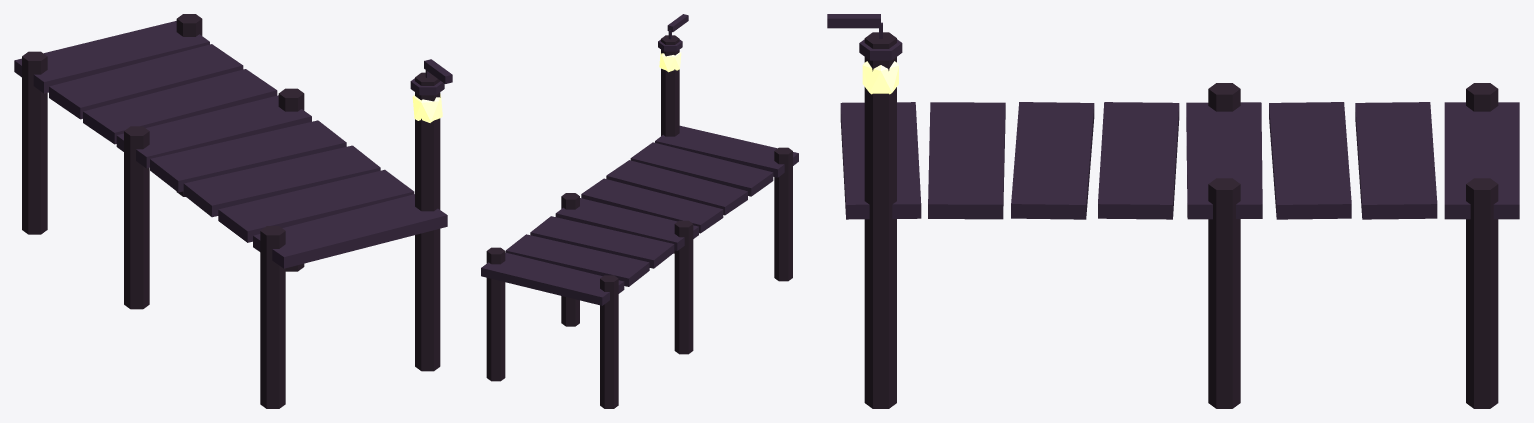
The model's file is ponton_modele.glb.
The picture shows the model from 3 angles, left to right: view 1: azimuth 30°, elevation 25°; view 2: azimuth 150°, elevation 25°; view 3: azimuth 270°, elevation 25°; orthographic projection. The views are drawn at different scales.
Parts seen in each view (by area): view 1: P8.013, P6.013, P2.013, P5.006, P3.008, P7.013, P1.013, P4.015, P11.013, P13.013, P9.012, P14.014 (+4 smaller); view 2: P1.013, P7.013, P3.008, P6.013, P2.013, P5.006, P8.013, P4.015, P11.013, P13.013, P9.012, P10.005 (+3 smaller); view 3: P6.013, P2.013, P3.008, P5.006, P7.013, P1.013, P4.015, P10.005, P12.013, P14.014, P8.013, P15.011 (+4 smaller).
Boxes of the visible parts, x1,y1,x2,y2 form: P8.013: (253, 194, 447, 268); P6.013: (183, 145, 380, 217); P2.013: (49, 44, 243, 119); P5.006: (150, 120, 346, 192); P3.008: (83, 69, 277, 144); P7.013: (218, 169, 414, 242); P1.013: (14, 21, 209, 93); P4.015: (116, 95, 311, 168); P11.013: (124, 126, 149, 309); P13.013: (260, 226, 285, 408); P9.012: (22, 51, 47, 234); P14.014: (415, 193, 440, 371); P1.013: (481, 252, 624, 305); P7.013: (630, 142, 773, 196); P3.008: (530, 216, 674, 268); P6.013: (606, 160, 747, 215); P2.013: (505, 234, 649, 286); P5.006: (581, 178, 723, 233); P8.013: (655, 125, 798, 177); P4.015: (555, 198, 698, 250); P11.013: (674, 220, 693, 354); P13.013: (774, 147, 792, 281); P9.012: (600, 275, 618, 408); P10.005: (486, 247, 505, 381); P6.013: (1011, 102, 1094, 219); P2.013: (1355, 102, 1437, 219); P3.008: (1269, 102, 1351, 219); P5.006: (1098, 102, 1179, 219); P7.013: (928, 102, 1005, 219); P1.013: (1444, 102, 1519, 219); P4.015: (1186, 102, 1262, 219); P10.005: (1466, 178, 1498, 408); P12.013: (1208, 178, 1240, 408); P14.014: (864, 184, 896, 408); P8.013: (840, 102, 921, 219); P15.011: (864, 32, 896, 213).
Bounding box in the file's own units: 0.9635 × 1.59 × 2.58.
